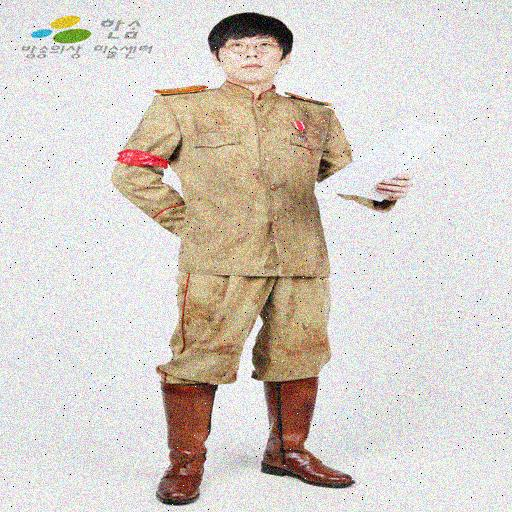north army: (128, 30, 387, 430)
